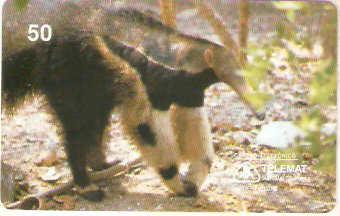TamanduaBandeira: (11, 7, 269, 201)
